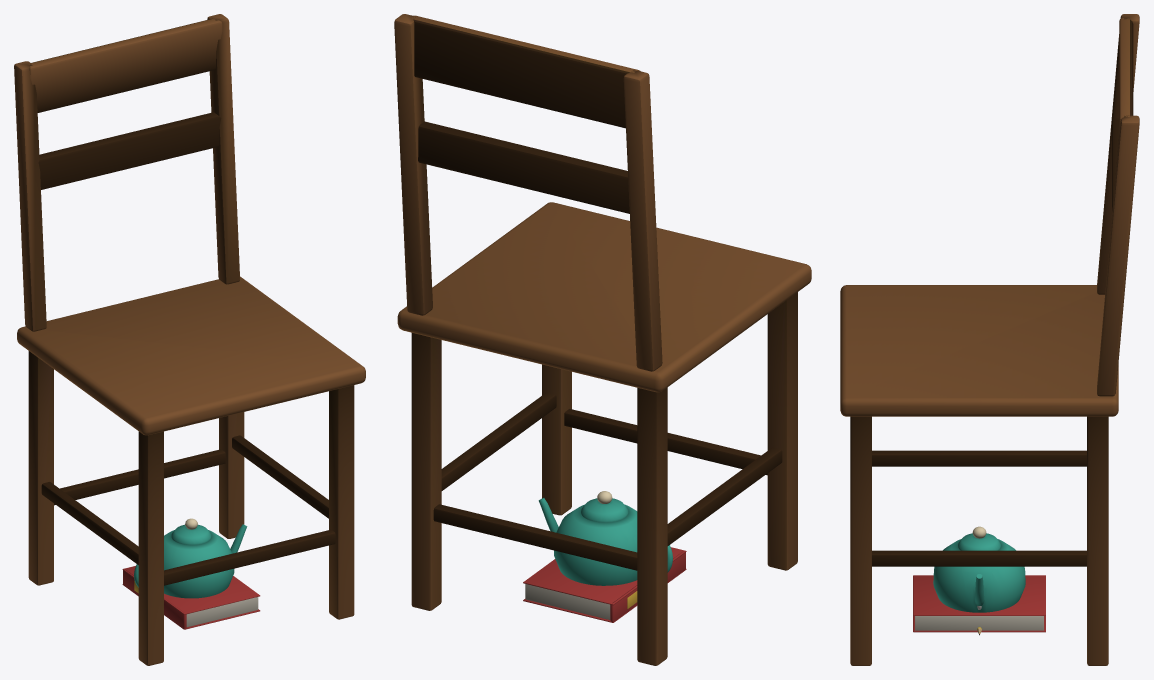
Rendered from house.glb.
3 views of the same model, side by side, from view 1: azimuth 30°, elevation 25°; view 2: azimuth 150°, elevation 25°; view 3: azimuth 270°, elevation 25° (orthographic). The views are drawn at different scales.
Visible parts, largest first — view 1: chair__0, teapot__0, book__0; view 2: chair__0, teapot__0, book__0; view 3: chair__0, teapot__0, book__0.
Part boxes in pixels (x1=…): chair__0: x1=14, y1=14, x2=365, y2=665; teapot__0: x1=134, y1=518, x2=247, y2=598; book__0: x1=122, y1=566, x2=260, y2=629; chair__0: x1=394, y1=14, x2=811, y2=665; teapot__0: x1=538, y1=491, x2=672, y2=585; book__0: x1=523, y1=547, x2=686, y2=622; chair__0: x1=840, y1=14, x2=1139, y2=665; teapot__0: x1=933, y1=526, x2=1025, y2=612; book__0: x1=913, y1=575, x2=1045, y2=632.
Size of the model in its own units: 0.44 by 0.9508 by 0.473.
